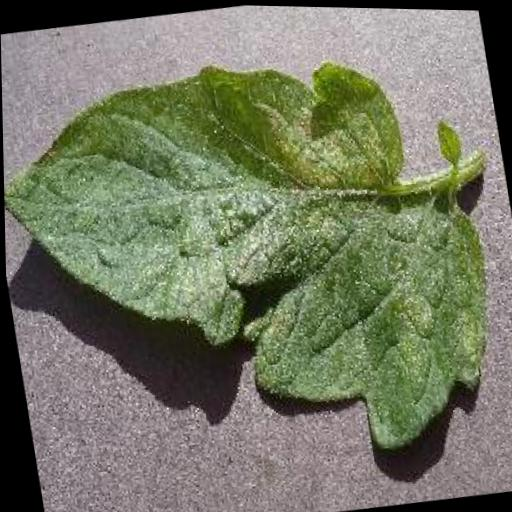Spider Mites: (0, 28, 512, 499)
